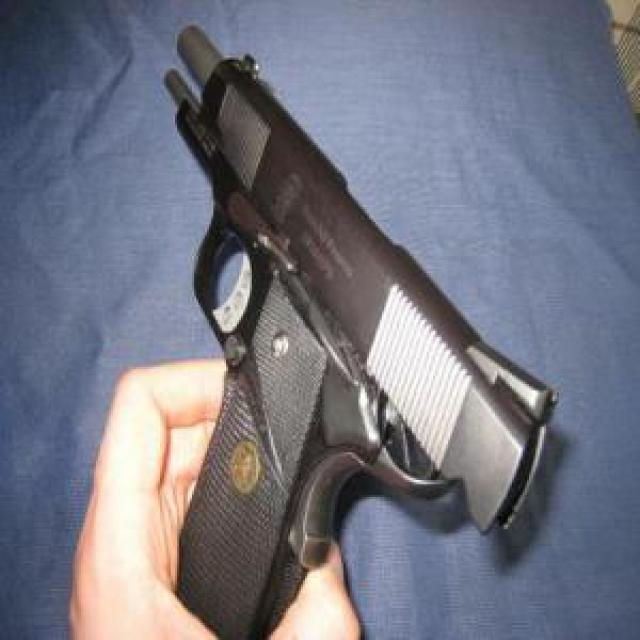pistol: (160, 26, 557, 632)
